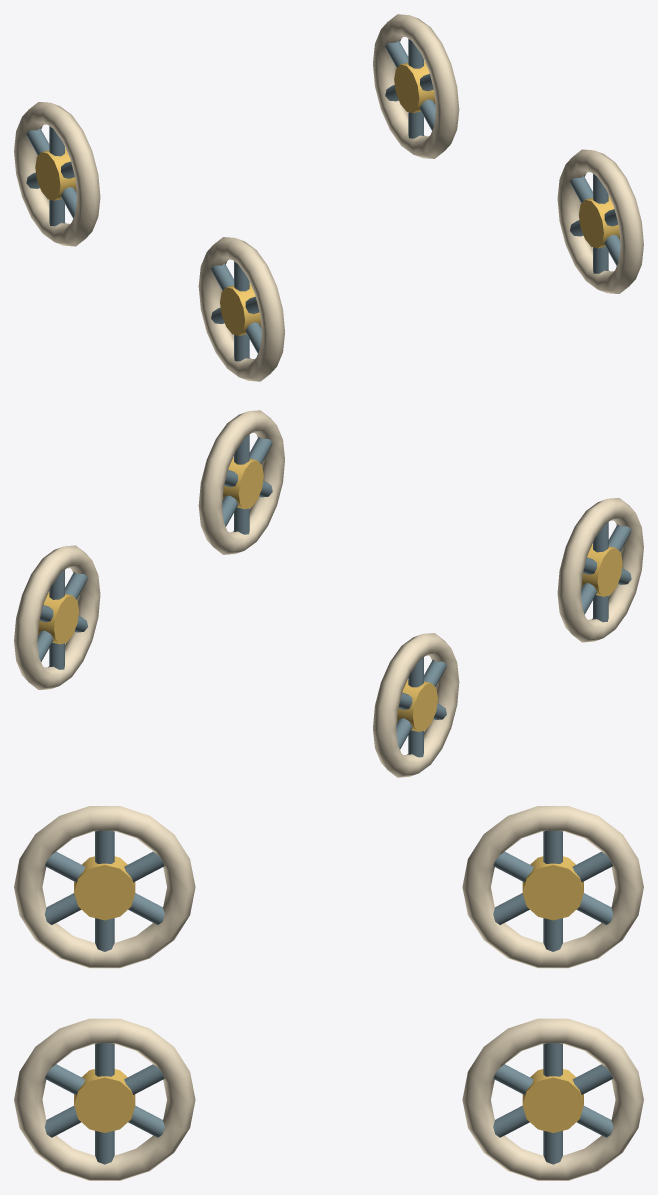
The model's file is upgrade-steel_rims.glb.
The picture shows the model from 3 angles, top to bottom: view 1: azimuth 30°, elevation 25°; view 2: azimuth 150°, elevation 25°; view 3: azimuth 270°, elevation 25°; orthographic projection. The views are drawn at different scales.
Parts seen in each view (by area): view 1: upgrade-steel_rims; view 2: upgrade-steel_rims; view 3: upgrade-steel_rims.
Part boxes in pixels (x1=…): upgrade-steel_rims: x1=14, y1=14, x2=643, y2=381; upgrade-steel_rims: x1=14, y1=410, x2=643, y2=777; upgrade-steel_rims: x1=14, y1=806, x2=643, y2=1180.
Size of the model in its own units: 2.42 by 0.8174 by 2.88.
